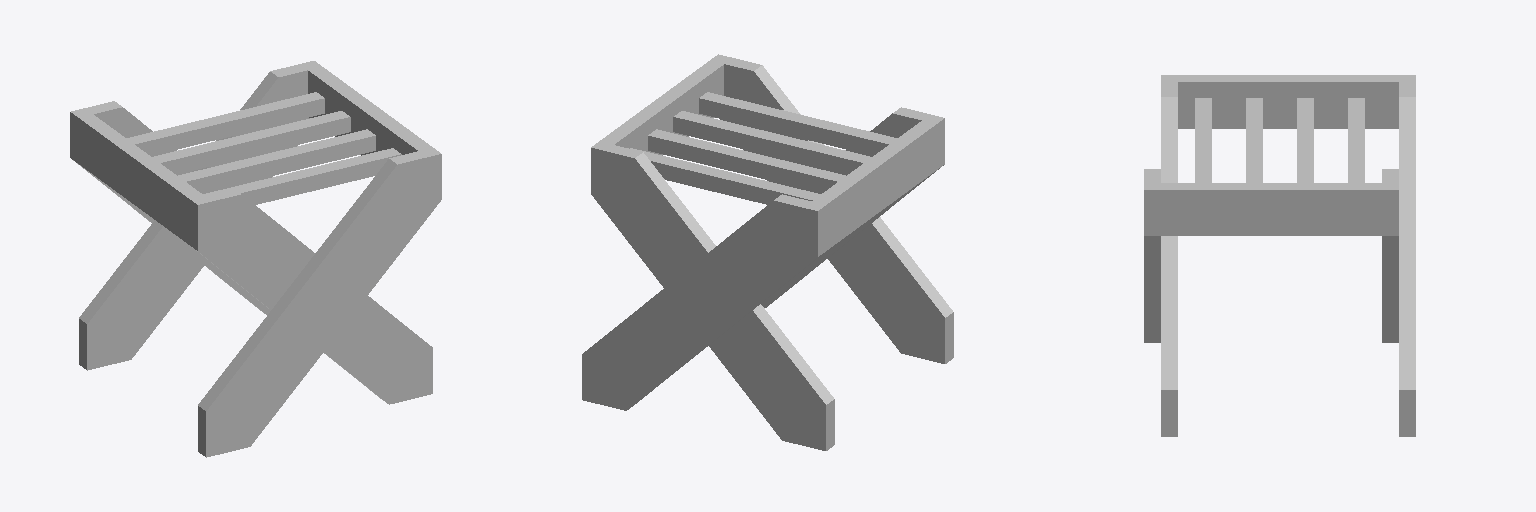
The model's file is rack.obj.
The picture shows the model from 3 angles: view 1: azimuth 30°, elevation 25°; view 2: azimuth 150°, elevation 25°; view 3: azimuth 270°, elevation 25°; orthographic projection.
Size of the model in its own units: 1 by 1 by 1.